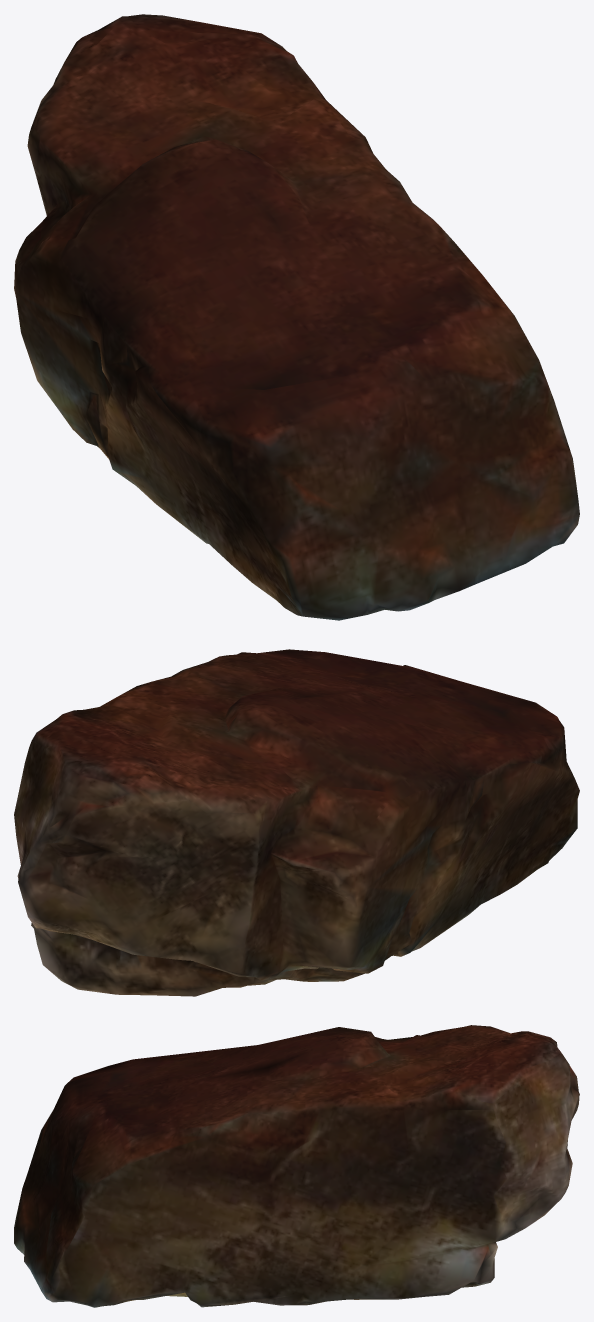
Rendered from rock_07.glb.
3 views of the same model, one above another, from view 1: azimuth 30°, elevation 25°; view 2: azimuth 150°, elevation 25°; view 3: azimuth 270°, elevation 25° (orthographic). The views are drawn at different scales.
Parts seen in each view (by area): view 1: rock_07; view 2: rock_07; view 3: rock_07.
Part boxes in pixels (x1,y1,x2,y2): rock_07: (14,14,579,620); rock_07: (14,649,579,996); rock_07: (14,1025,579,1307).
Bounding box in the file's own units: 0.1684 × 0.1434 × 0.3199.
1 material, 1 textured.
